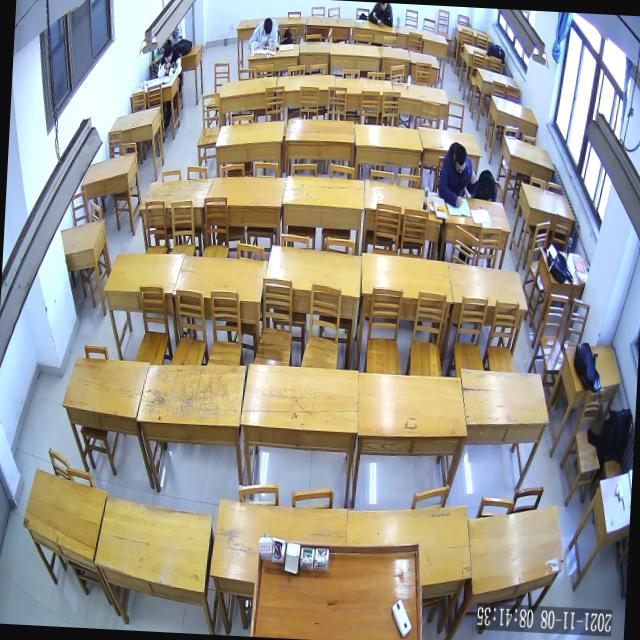down: (452, 145, 468, 175), (162, 44, 174, 64), (262, 18, 274, 38)
sit: (437, 141, 480, 209), (248, 15, 280, 51), (158, 44, 184, 80)
